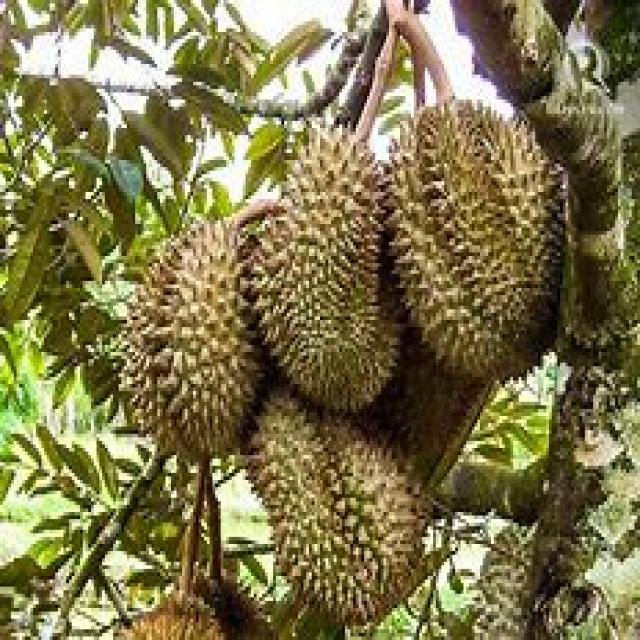mature: (391, 102, 564, 378), (252, 130, 399, 412), (249, 396, 428, 623), (121, 221, 266, 457)
